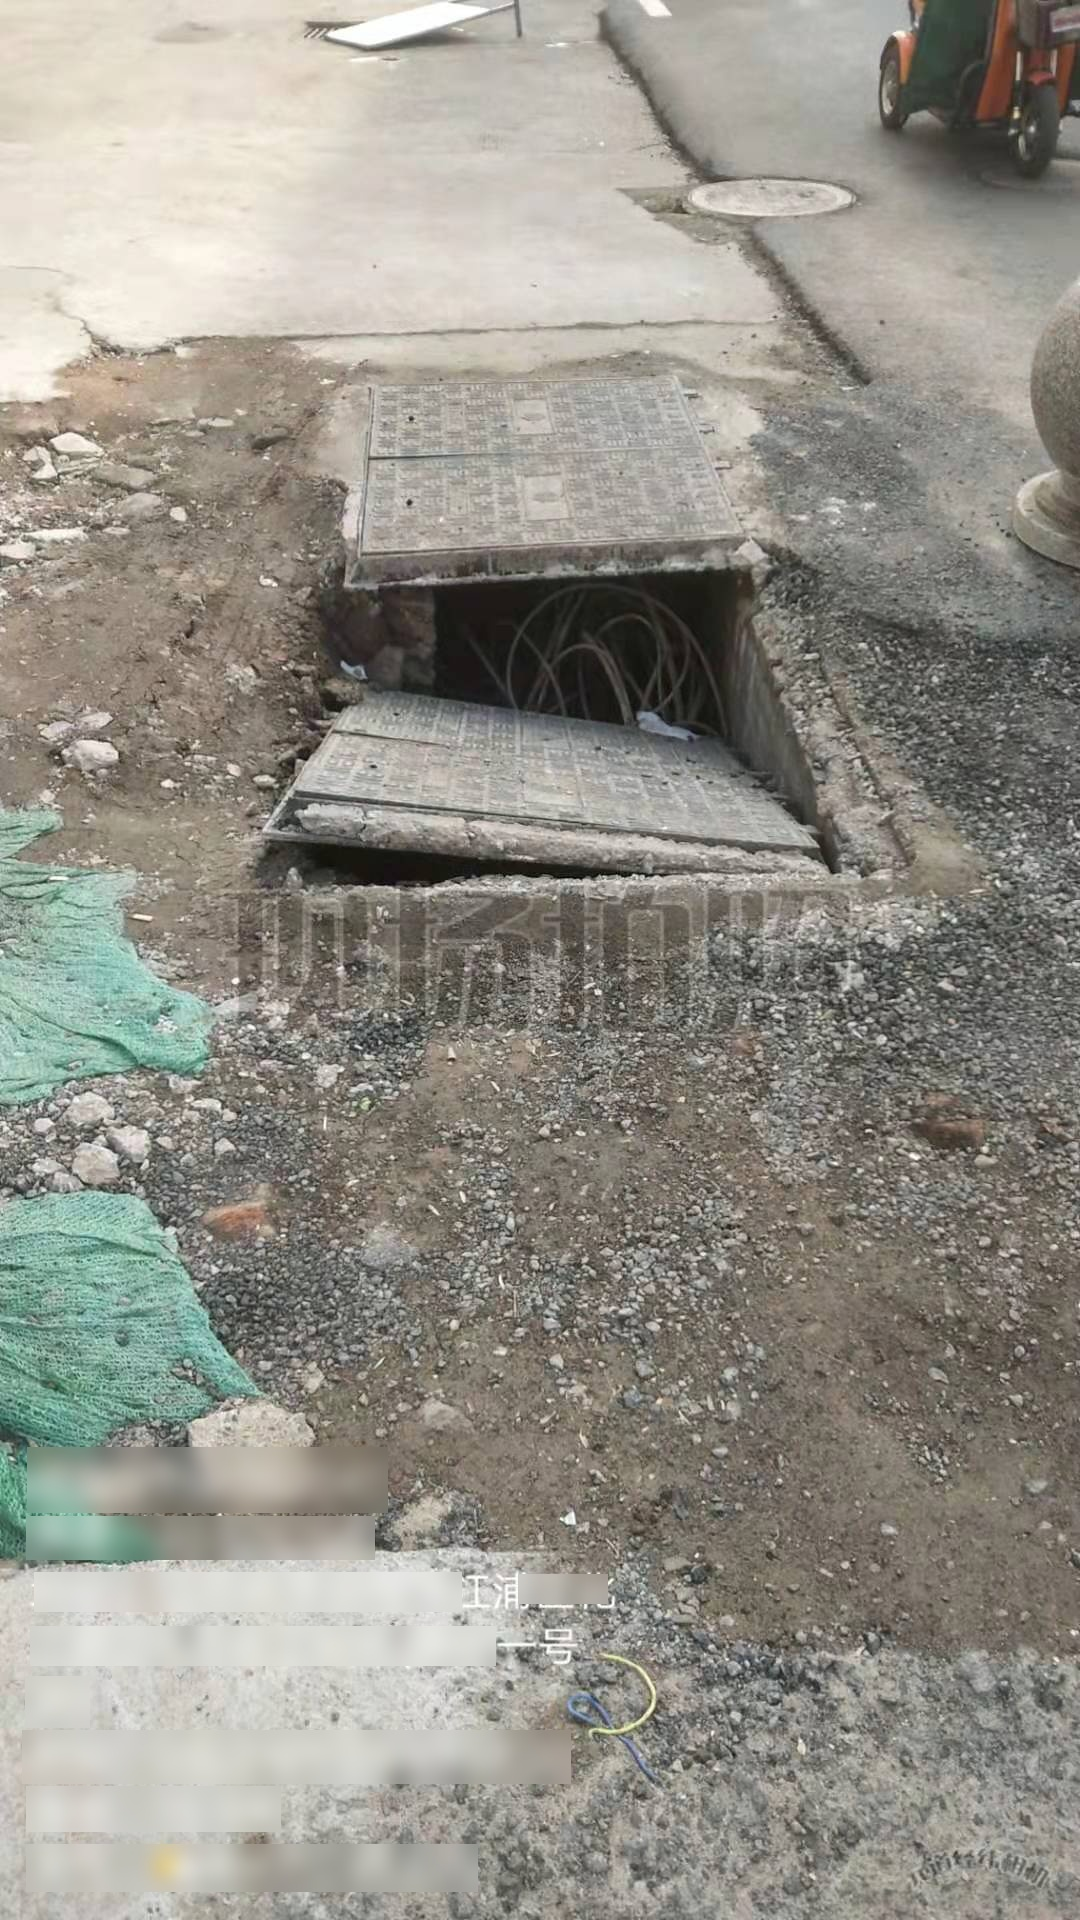uncovered: (258, 359, 914, 905)
